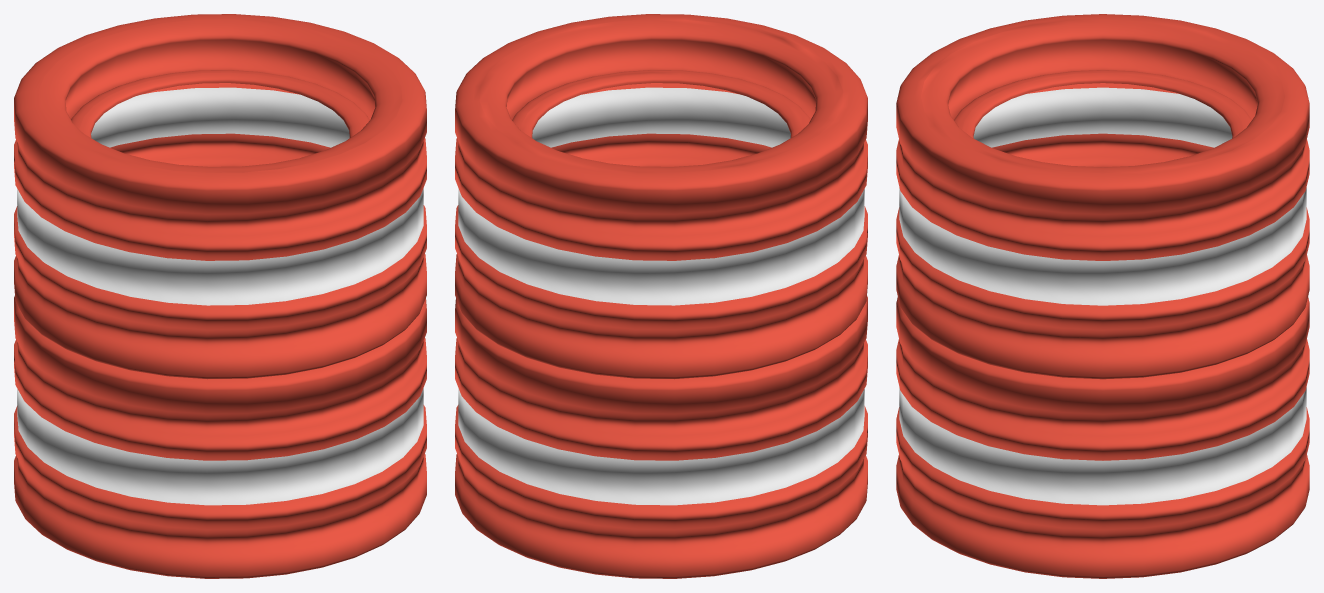
Rendered from pneumaticSingle.fbx.
3 renders of one model, left to right at view 1: azimuth 30°, elevation 25°; view 2: azimuth 150°, elevation 25°; view 3: azimuth 270°, elevation 25°, orthographic.
Visible parts, largest first — view 1: Cylinder.011; view 2: Cylinder.011; view 3: Cylinder.011.
Part boxes in pixels (box(x1,y1,x2,y2)): Cylinder.011: box(14, 14, 426, 578); Cylinder.011: box(455, 14, 867, 578); Cylinder.011: box(896, 14, 1309, 578).
Size of the model in its own units: 200 by 214 by 200.
